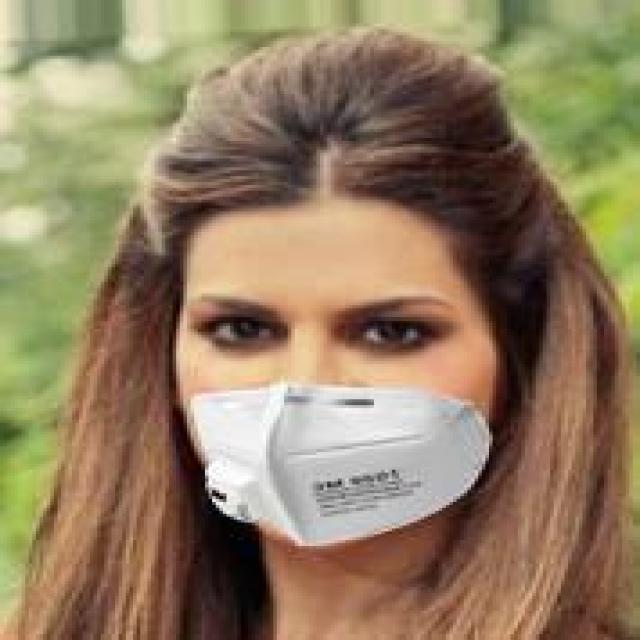mask: (140, 56, 550, 570)
